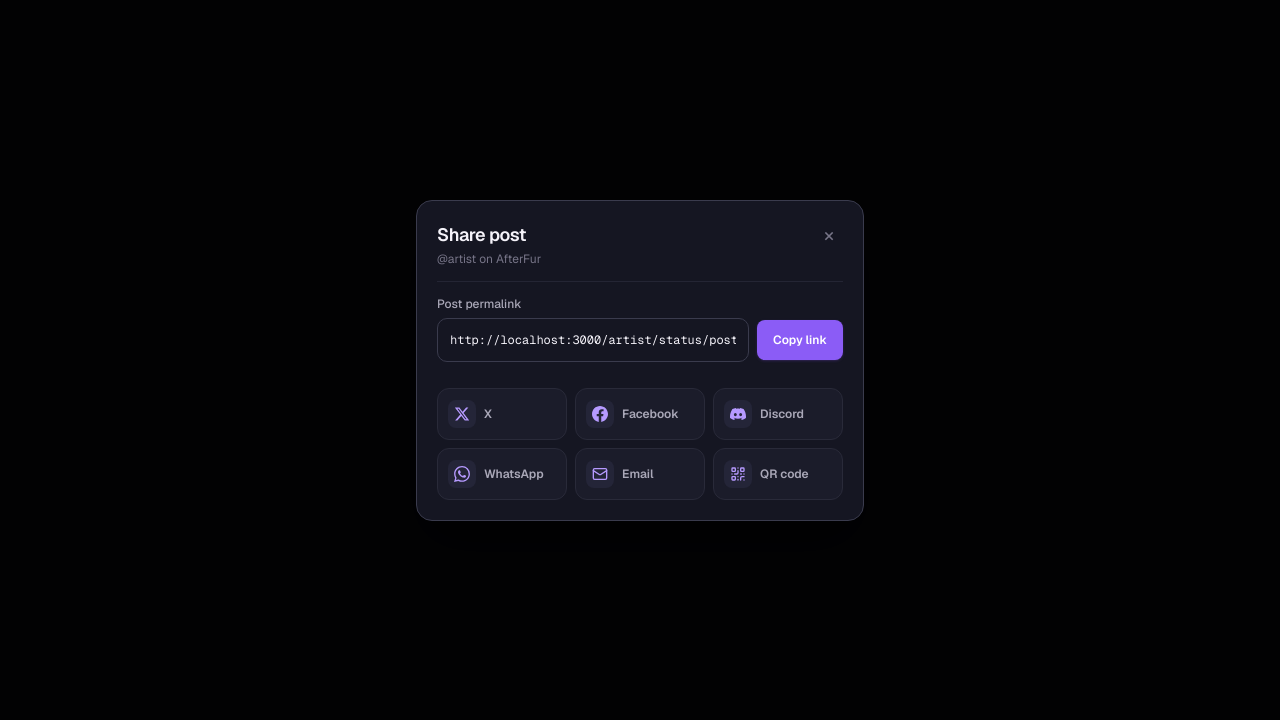
Scenario: ShareDialog › displays and copies the exact post permalink and shows success feedback
The image size is (1280, 720).
Expected: the field labelled "Post permalink" holds "http://localhost:3000/artist/status/post-1", [437, 318, 749, 362]
Click the button "Copy link": (800,340) [757, 320, 843, 360]
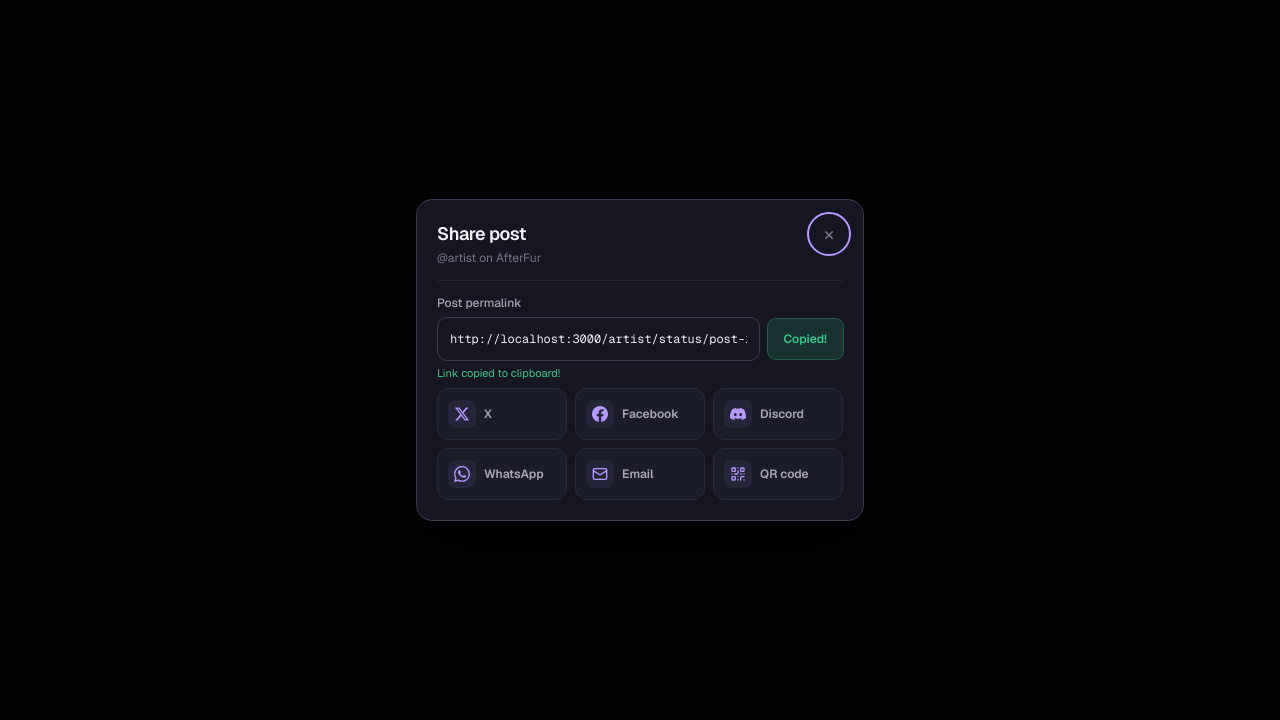
Now the message reads "Link copied to clipboard!", box [437, 366, 560, 380]
Now the button with aria-label "Copied link" reads "Copied!", box [768, 319, 843, 359]
